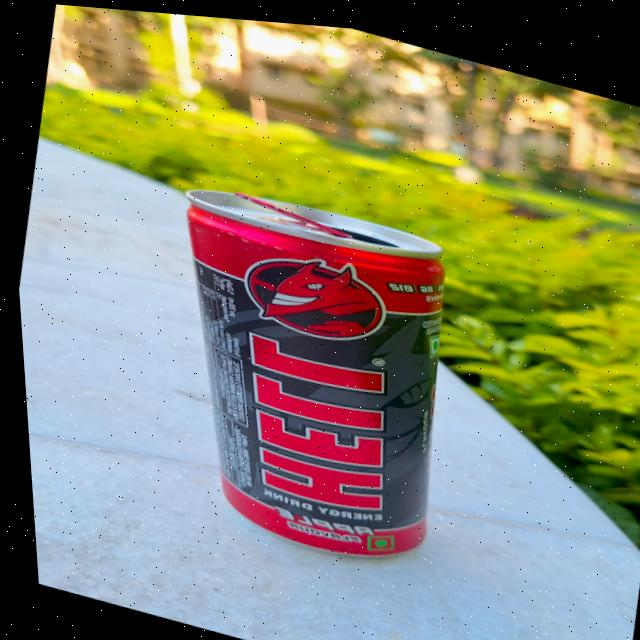Hell Apple: (124, 162, 483, 573)
